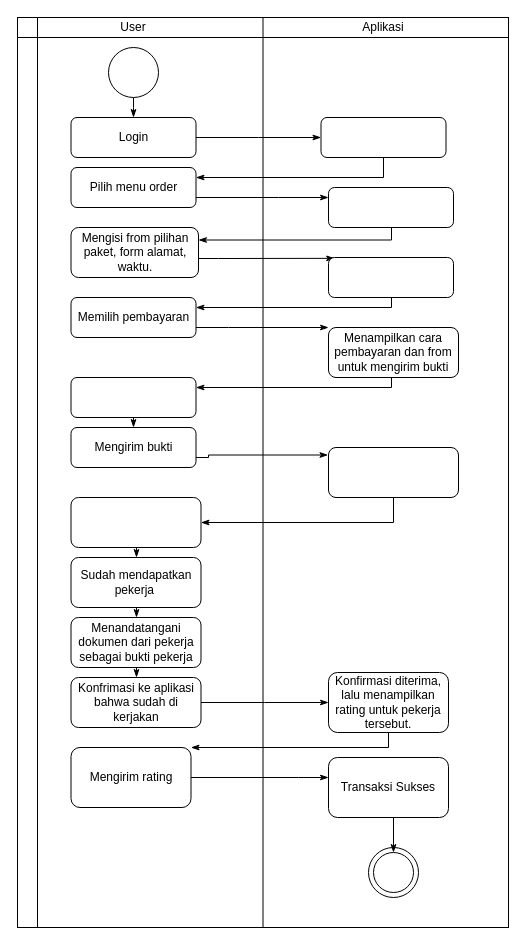
The diagram is 526 pixels wide and 946 high, and some of its shapes have lost their labels. Each missing label, with the centre of its shape:
Halaman Utama User: pixel 383 137
Melakukan Pembayaran: pixel 133 397
Memasukan daftar orderan ke menu transaksi para pekerja: pixel 393 472
Menampilkan from pilihan paket, form alamat, waktu.: pixel 391 207
Menampilkan menu pembayaran: pixel 391 277
Menunggu pekerja: pixel 135 522
